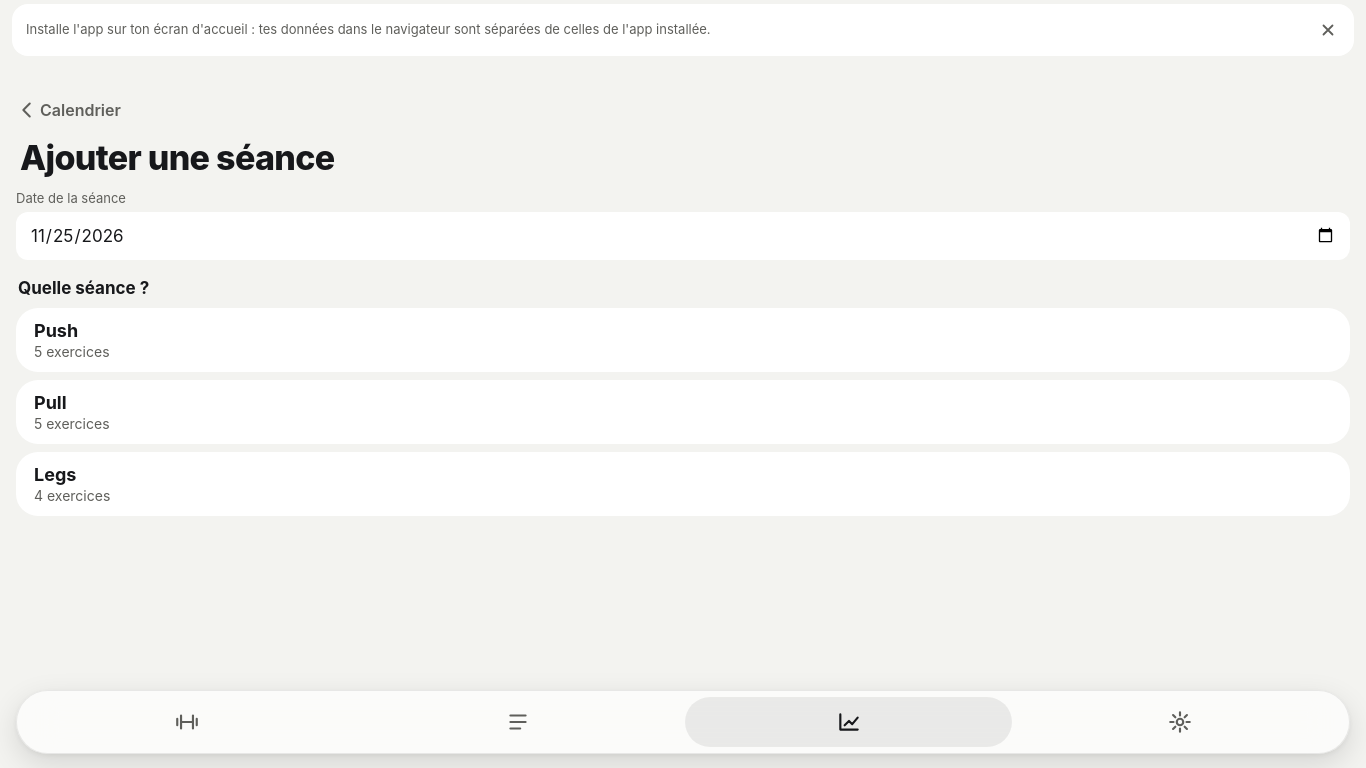
Test: Ajouter une séance oubliée › date future refusée à l'envoi : message, rien créé
Expected: the date field labelled "Date de la séance" holds "2026-11-25", [16,212,1350,260]
Click the button "Push 5 exercices" at (56, 330), box [16,308,1350,372]
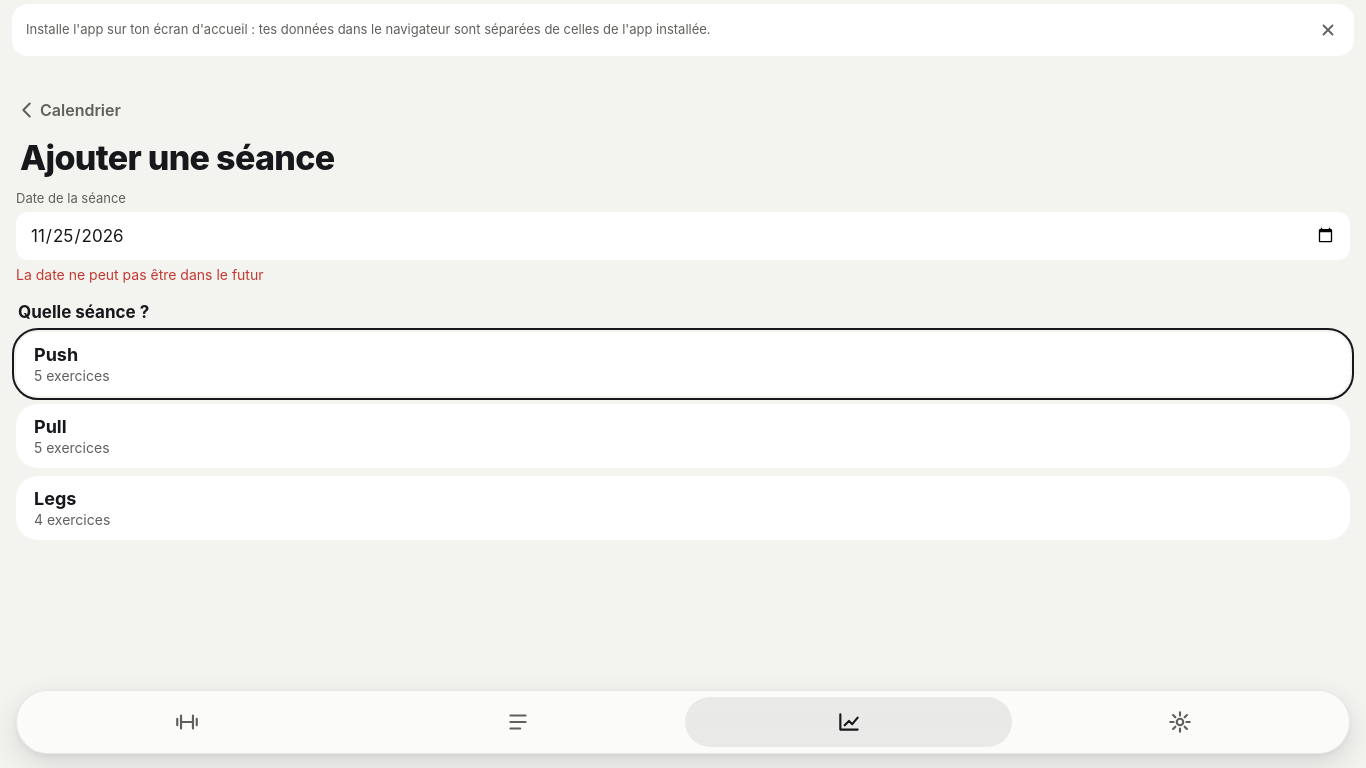
Expected: the text "La date ne peut pas être dans le futur" is shown, [16,266,264,283]
